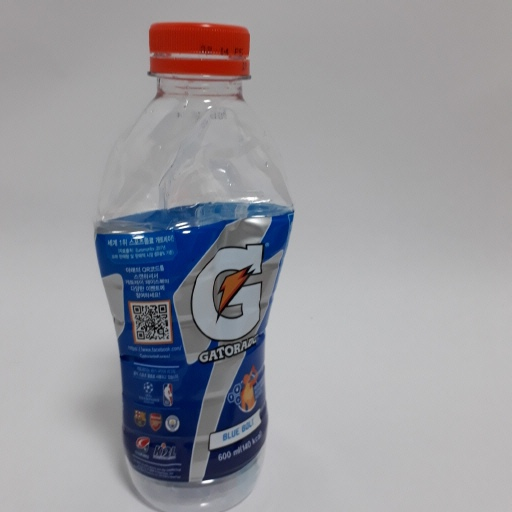Plastic_0: (90, 16, 297, 509)
